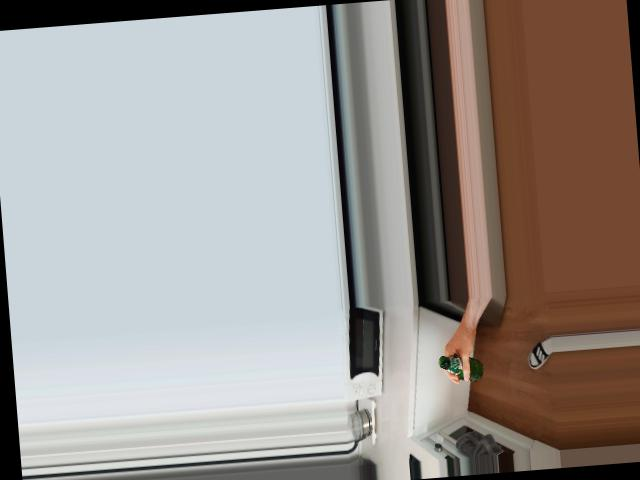beer: (439, 352, 484, 383)
